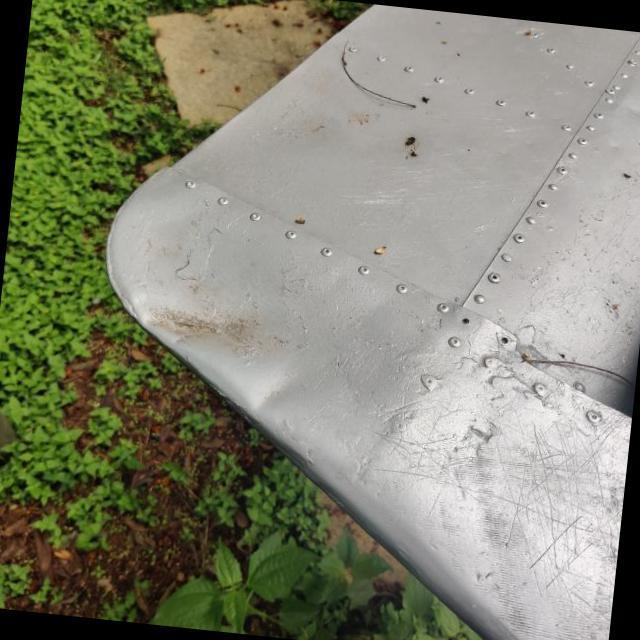Dent: (222, 336, 332, 452)
